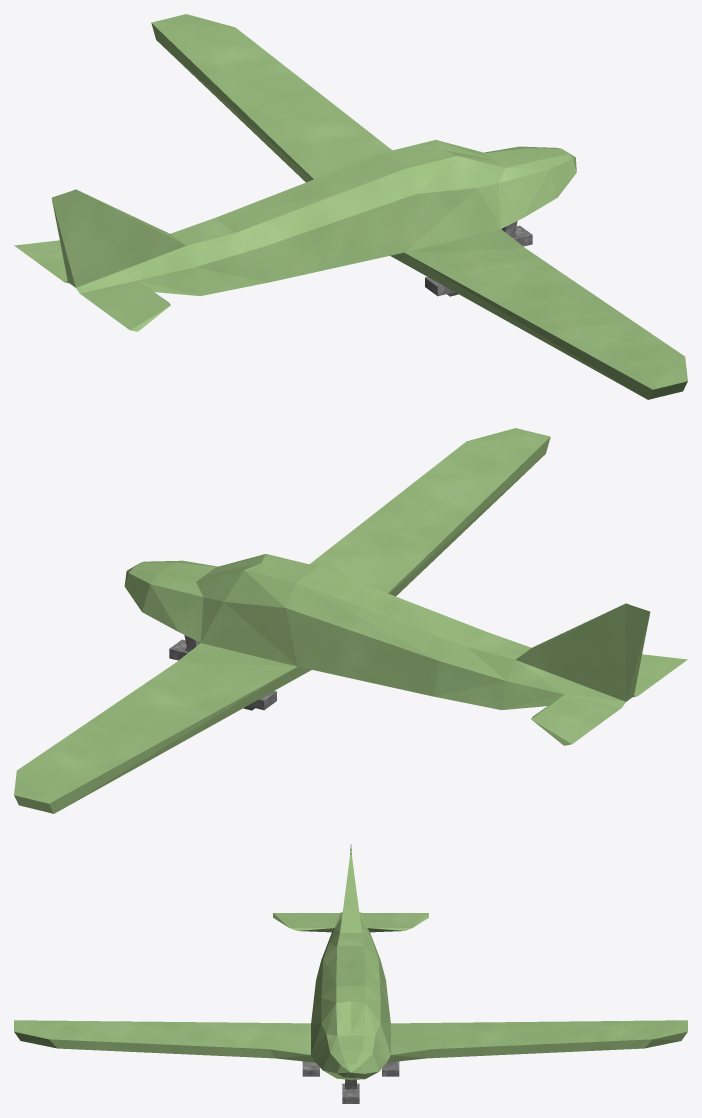
File: cessna.obj
3 renders of one model, top to bottom at view 1: azimuth 30°, elevation 25°; view 2: azimuth 150°, elevation 25°; view 3: azimuth 270°, elevation 25°, orthographic. The views are drawn at different scales.
Bounding box in the file's own units: 8.2 × 2.49 × 13.6.
